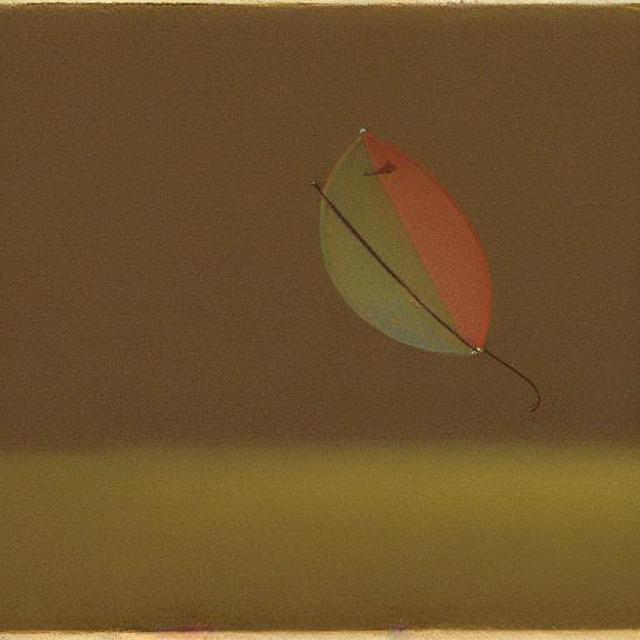floating object: (316, 129, 497, 357)
